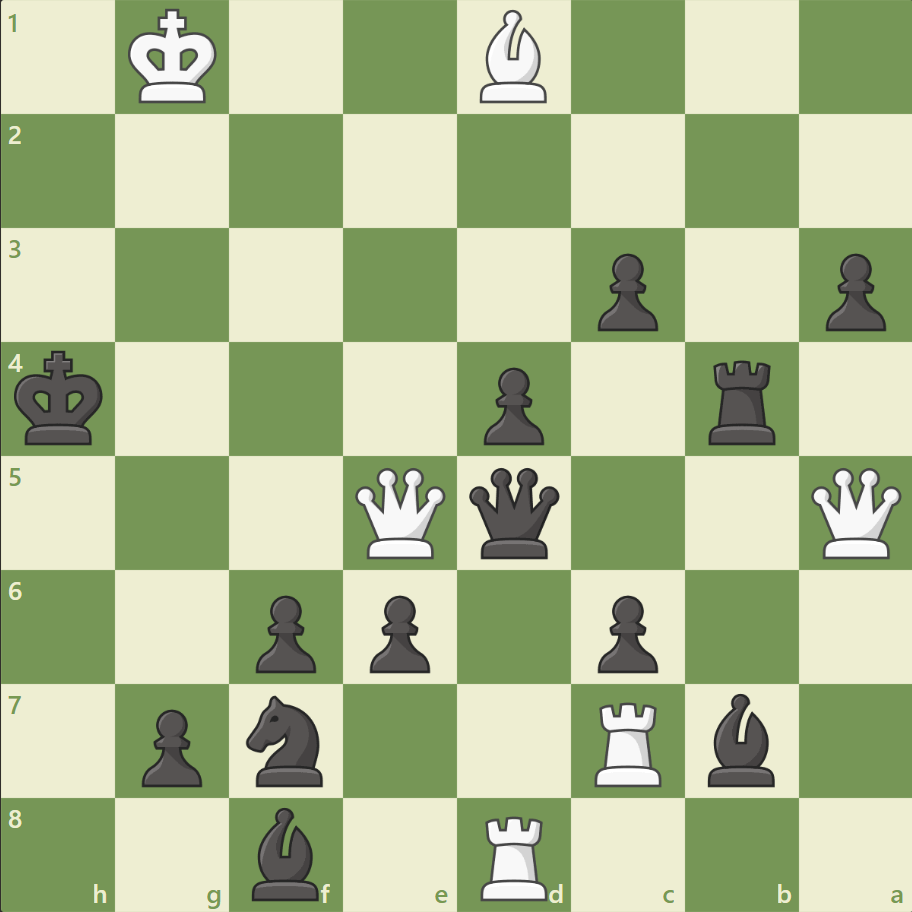B: (471, 6, 555, 109)
K: (124, 4, 224, 112)
Q: (805, 463, 904, 562), (351, 463, 450, 562)
R: (473, 806, 556, 904), (587, 693, 670, 790)
b: (244, 801, 328, 904), (698, 687, 782, 790)
k: (11, 344, 111, 452)
n: (238, 688, 335, 791)
p: (133, 700, 208, 791), (247, 586, 322, 677), (474, 359, 549, 450), (588, 586, 662, 677), (361, 586, 435, 677), (815, 246, 889, 337), (588, 246, 662, 337)
q: (464, 463, 563, 562)
r: (700, 352, 783, 449)
